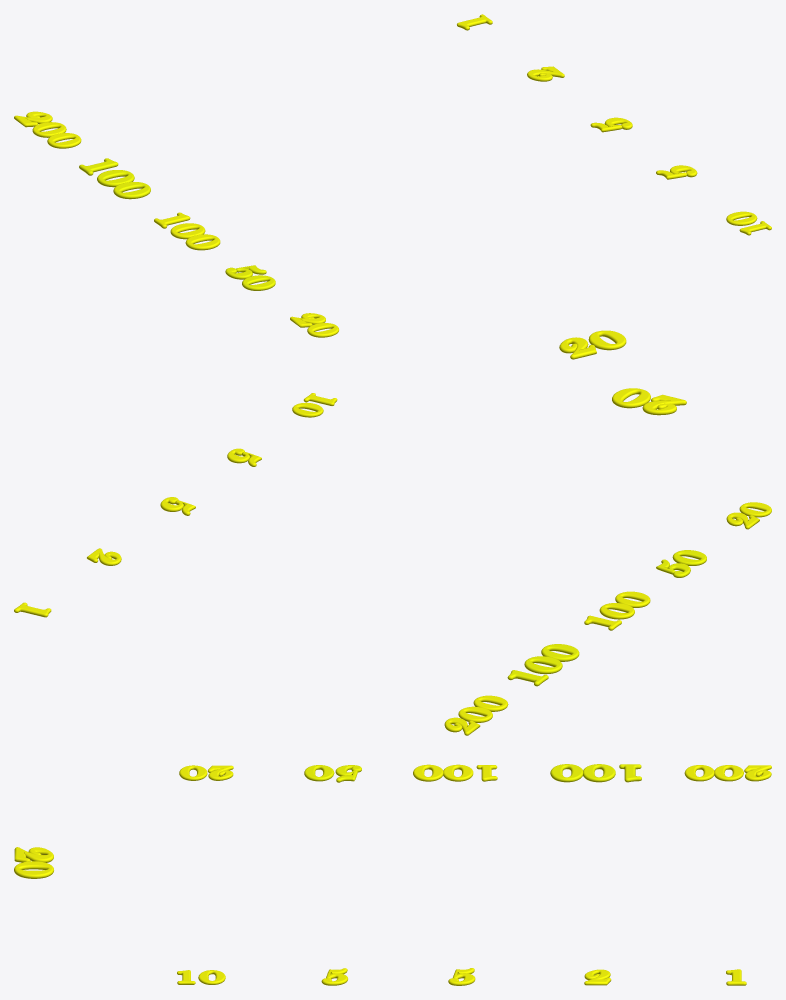
3 renders of one model, top to bottom at view 1: azimuth 30°, elevation 25°; view 2: azimuth 150°, elevation 25°; view 3: azimuth 270°, elevation 25°, orthographic. The views are drawn at different scales.
Visible parts, largest first — view 1: Text.001, Text, Text.002, Text.005, Text.003, Text.004, Text.010; view 2: Text.001, Text, Text.005, Text.002, Text.003, Text.004, Text.010; view 3: Text.001, Text, Text.005, Text.002, Text.003, Text.004, Text.010, Text.007.
Part boxes in pixels (x1=…): Text.001: x1=79, y1=158, x2=150, y2=199; Text: x1=14, y1=111, x2=81, y2=148; Text.002: x1=154, y1=212, x2=220, y2=250; Text.005: x1=559, y1=330, x2=626, y2=359; Text.003: x1=225, y1=265, x2=275, y2=290; Text.004: x1=290, y1=313, x2=338, y2=337; Text.010: x1=726, y1=211, x2=771, y2=235; Text.001: x1=507, y1=644, x2=579, y2=686; Text: x1=444, y1=695, x2=508, y2=735; Text.005: x1=612, y1=388, x2=686, y2=415; Text.002: x1=584, y1=591, x2=650, y2=630; Text.003: x1=656, y1=550, x2=706, y2=577; Text.004: x1=726, y1=502, x2=771, y2=529; Text.010: x1=292, y1=393, x2=337, y2=417; Text.001: x1=550, y1=764, x2=641, y2=782; Text: x1=684, y1=765, x2=771, y2=781; Text.005: x1=14, y1=847, x2=53, y2=878; Text.002: x1=413, y1=764, x2=497, y2=781; Text.003: x1=304, y1=765, x2=361, y2=782; Text.004: x1=179, y1=765, x2=233, y2=780; Text.010: x1=177, y1=970, x2=225, y2=984; Text.007: x1=584, y1=969, x2=611, y2=985.
Bounding box in the file's own units: 86 × 0.7605 × 126.
